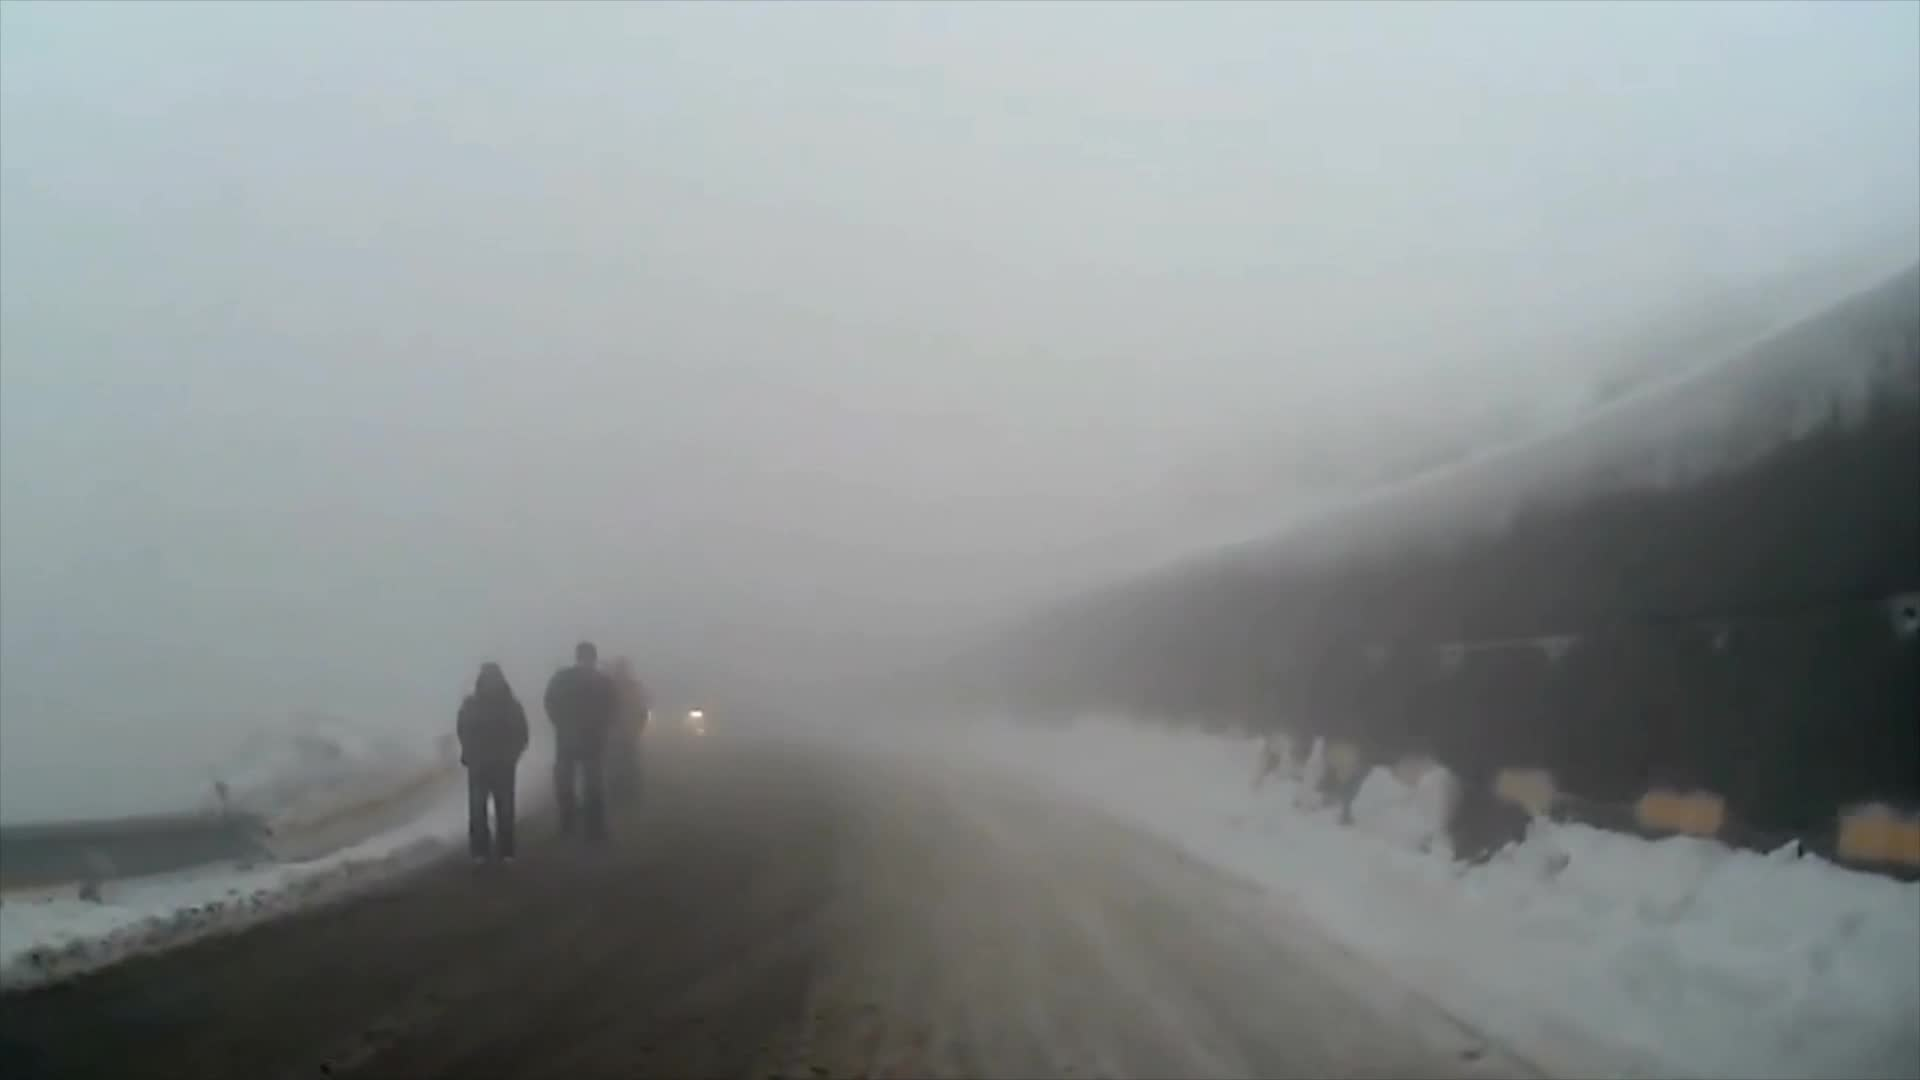pedestrian: (450, 658, 536, 873), (544, 639, 619, 840), (597, 655, 654, 821)
